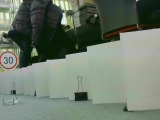speed_30: (1, 49, 21, 72)
